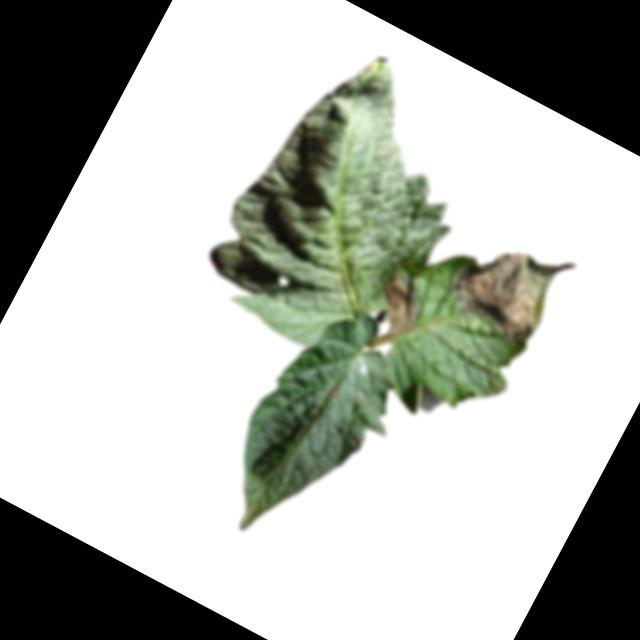Late_blight: (439, 215, 578, 352), (366, 264, 442, 346), (322, 380, 346, 404)
healthy: (189, 24, 510, 384)
